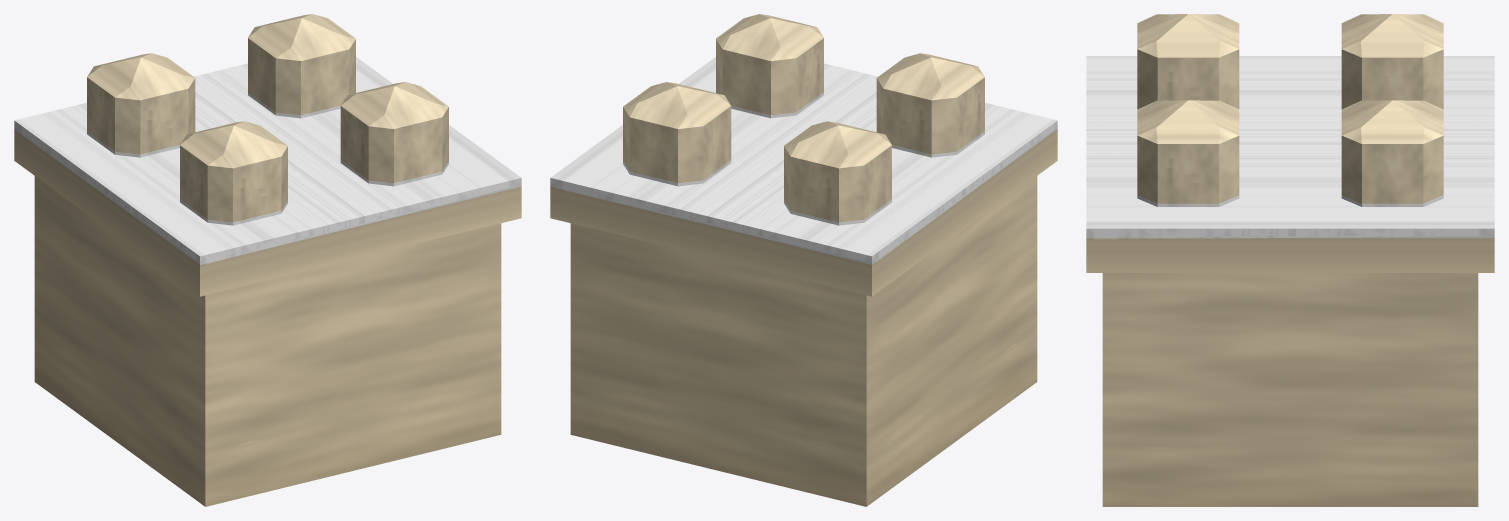
3 views of the same model, side by side, from view 1: azimuth 30°, elevation 25°; view 2: azimuth 150°, elevation 25°; view 3: azimuth 270°, elevation 25° (orthographic). The views are drawn at different scales.
Parts seen in each view (by area): view 1: wall; view 2: wall; view 3: wall.
Part boxes in pixels (x1,y1,x2,y2): wall: (14, 14, 521, 506); wall: (550, 14, 1057, 506); wall: (1086, 14, 1494, 506).
Size of the model in its own units: 1 by 1 by 1.
Materials: 1 (1 with a texture image).
